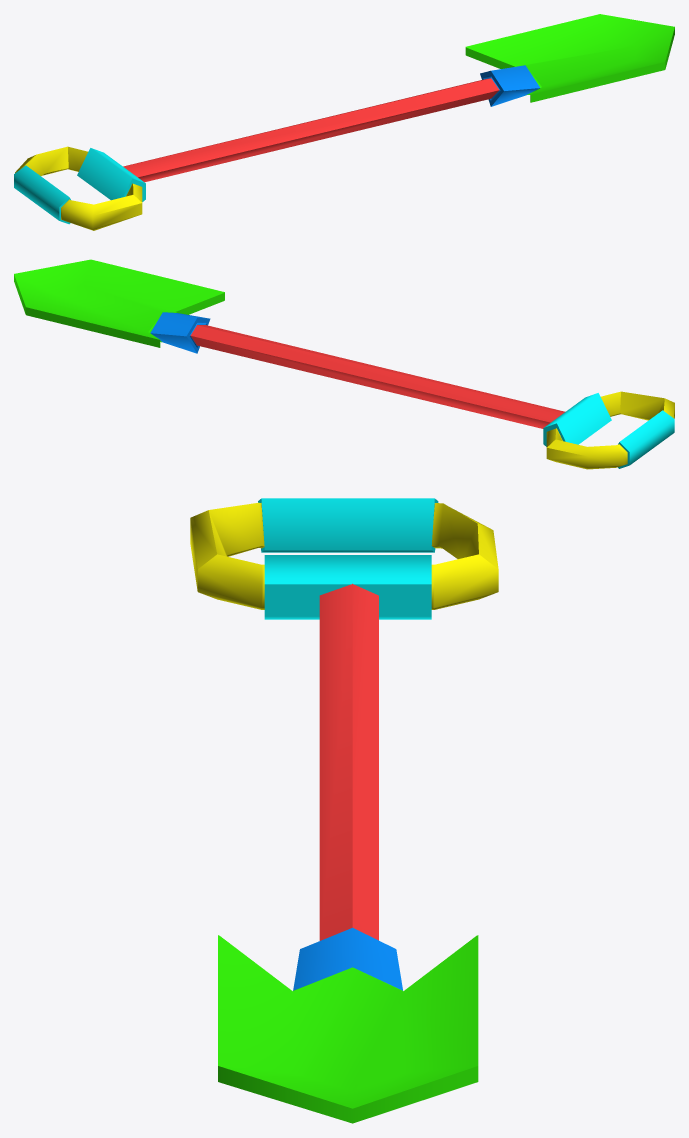
The model's file is Pala_Substance.fbx.
The picture shows the model from 3 angles, top to bottom: view 1: azimuth 30°, elevation 25°; view 2: azimuth 150°, elevation 25°; view 3: azimuth 270°, elevation 25°; orthographic projection. The views are drawn at different scales.
Visible parts, largest first — view 1: pCylinder1, pCylinder2; view 2: pCylinder1, pCylinder2; view 3: pCylinder1, pCylinder2.
Boxes of the visible parts, <box> form: pCylinder1: <box>123,14,674,182</box>; pCylinder2: <box>14,146,145,230</box>; pCylinder1: <box>14,259,565,428</box>; pCylinder2: <box>543,391,674,469</box>; pCylinder1: <box>218,583,478,1123</box>; pCylinder2: <box>190,498,498,619</box>.
Bounding box in the file's own units: 9.35 × 0.5269 × 1.96.
